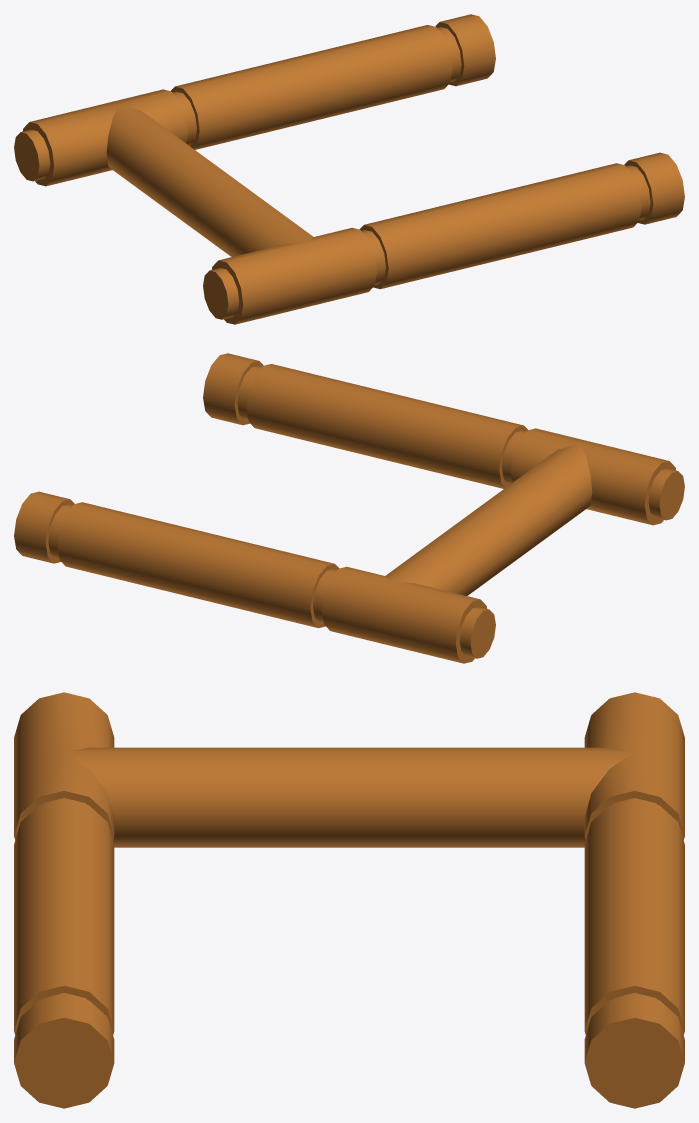
The model's file is Doorway_Double_7_mesh_3_0.obj.
The picture shows the model from 3 angles, top to bottom: view 1: azimuth 30°, elevation 25°; view 2: azimuth 150°, elevation 25°; view 3: azimuth 270°, elevation 25°; orthographic projection. The views are drawn at different scales.
Size of the model in its own units: 0.2074 by 0.0264 by 0.1764.
